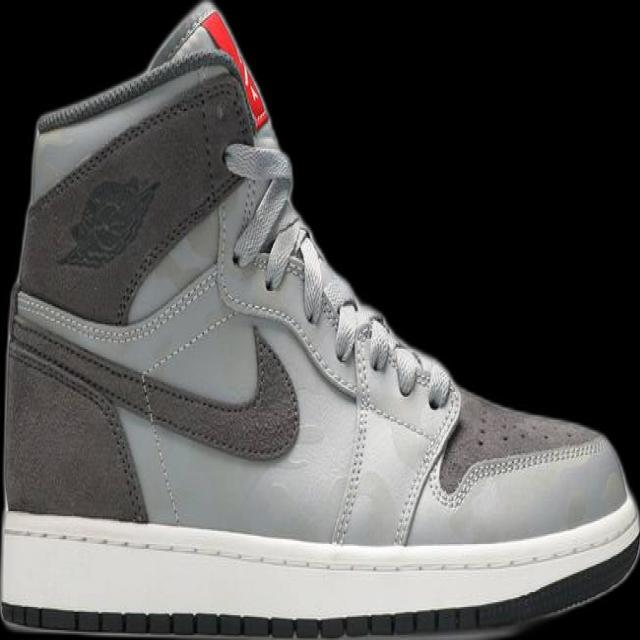J1_InsoleChar: (0, 0, 639, 639)
J1_ShoeLogo: (56, 173, 161, 270)
J1_StitchPattern: (220, 139, 459, 544), (0, 507, 639, 638), (1, 517, 638, 577), (328, 314, 458, 545), (263, 222, 431, 400), (6, 320, 149, 522), (1, 602, 475, 639), (332, 303, 453, 411), (435, 434, 608, 509), (391, 387, 462, 547), (329, 329, 375, 545), (225, 141, 295, 272)
